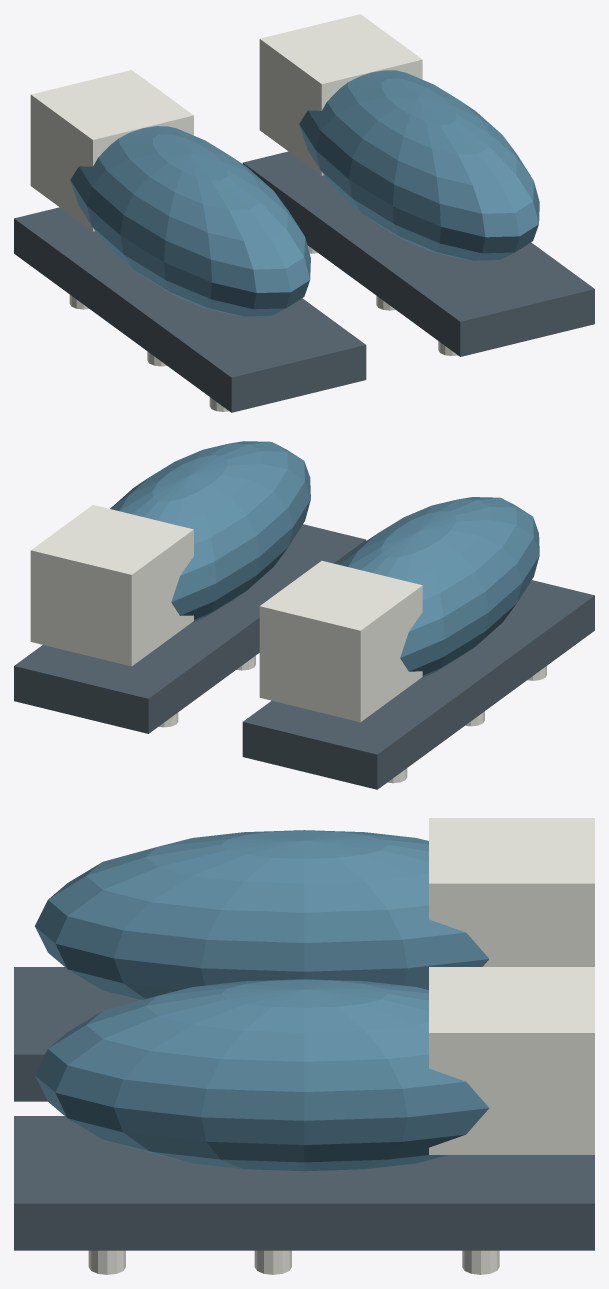
Rendered from cleat.glb.
The picture shows the model from 3 angles, top to bottom: view 1: azimuth 30°, elevation 25°; view 2: azimuth 150°, elevation 25°; view 3: azimuth 270°, elevation 25°; orthographic projection. The views are drawn at different scales.
Visible parts, largest first — view 1: cleat-pair; view 2: cleat-pair; view 3: cleat-pair.
Part boxes in pixels (x1,y1,x2,y2): cleat-pair: [14, 14, 594, 412]; cleat-pair: [14, 441, 594, 789]; cleat-pair: [14, 818, 594, 1274].
Bounding box in the file's own units: 0.274 × 0.1335 × 0.28.
